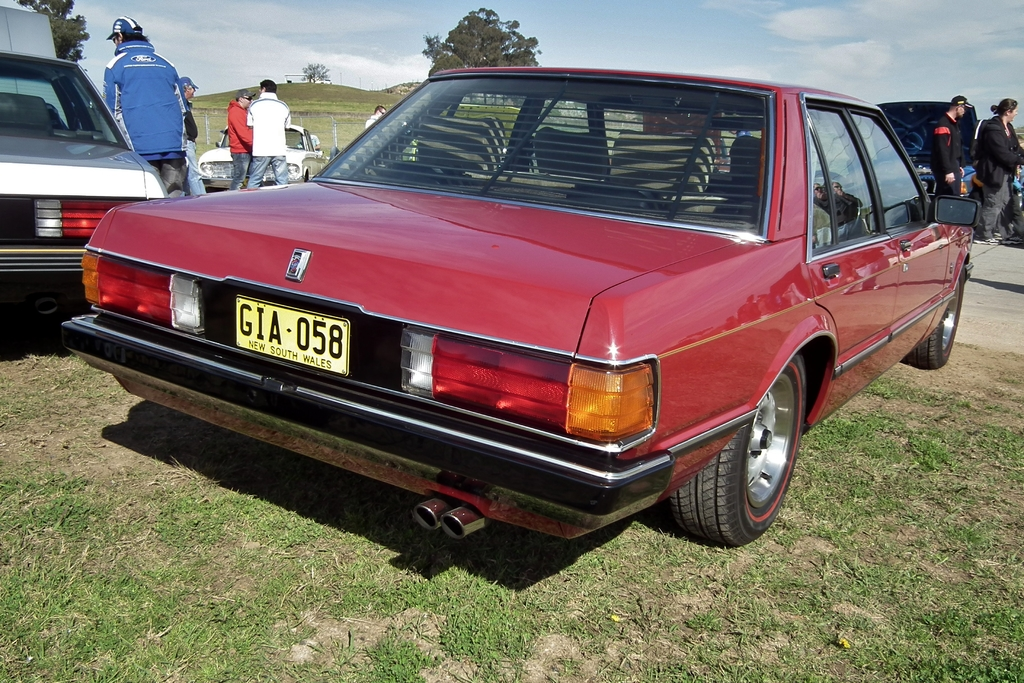Person: (101, 14, 187, 198), (976, 96, 1024, 243), (244, 76, 291, 186), (929, 92, 976, 197), (179, 73, 206, 194), (226, 88, 257, 188)
